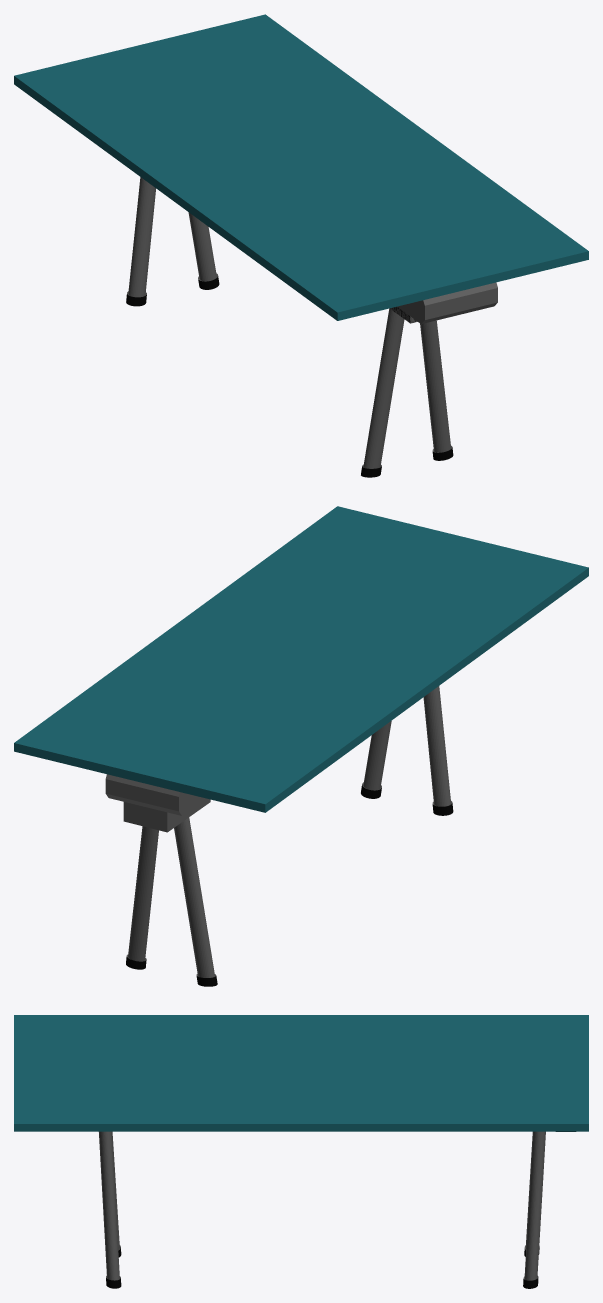
File: Mesa.fbx
3 views of the same model, one above another, from view 1: azimuth 30°, elevation 25°; view 2: azimuth 150°, elevation 25°; view 3: azimuth 270°, elevation 25° (orthographic). The views are drawn at different scales.
Visible parts, largest first — view 1: Cube; view 2: Cube; view 3: Cube.
Part boxes in pixels (x1,y1,x2,y2): Cube: (14, 14, 588, 477); Cube: (14, 506, 588, 986); Cube: (14, 1015, 588, 1288).
Bounding box in the file's own units: 366 × 314 × 815.
